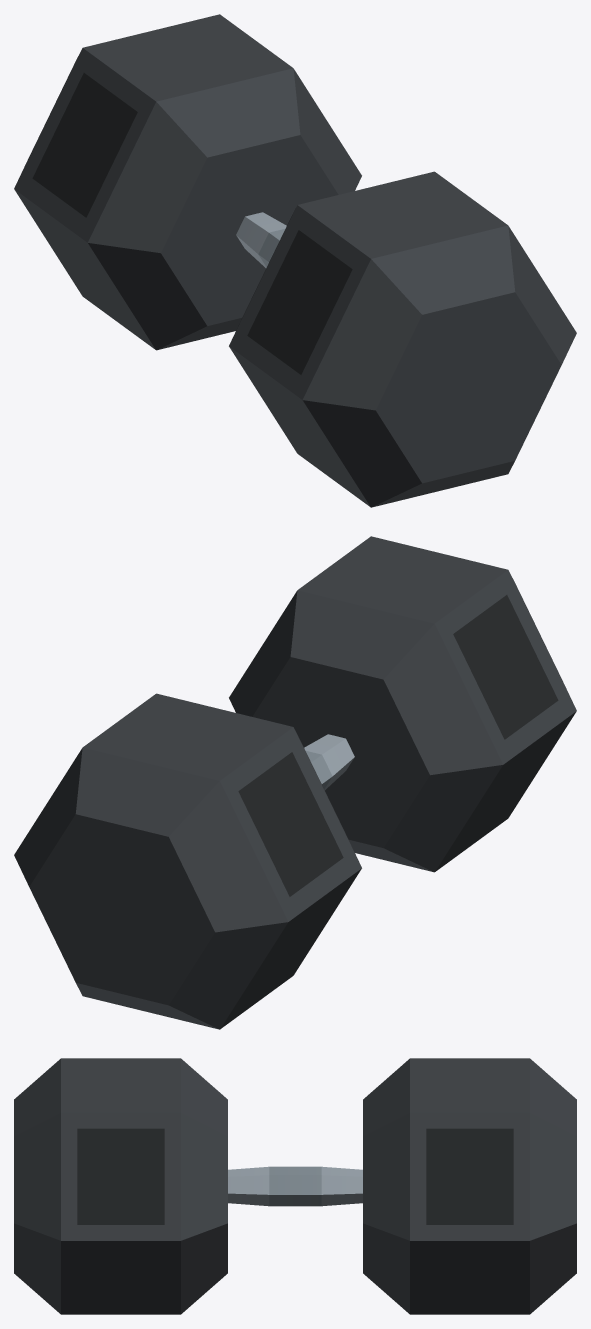
Rendered from SM_Prop_Gym_Dumbbell_01.obj.
3 views of the same model, one above another, from view 1: azimuth 30°, elevation 25°; view 2: azimuth 150°, elevation 25°; view 3: azimuth 270°, elevation 25° (orthographic). The views are drawn at different scales.
Visible parts, largest first — view 1: SM_Prop_Gym_Dumbbell_01_0; view 2: SM_Prop_Gym_Dumbbell_01_0; view 3: SM_Prop_Gym_Dumbbell_01_0.
Part boxes in pixels (x1,y1,x2,y2): SM_Prop_Gym_Dumbbell_01_0: (14,14,576,507); SM_Prop_Gym_Dumbbell_01_0: (14,536,576,1029); SM_Prop_Gym_Dumbbell_01_0: (14,1058,576,1314).
Bounding box in the file's own units: 0.3284 × 0.2844 × 0.718.
Materials: 1 (1 with a texture image).
